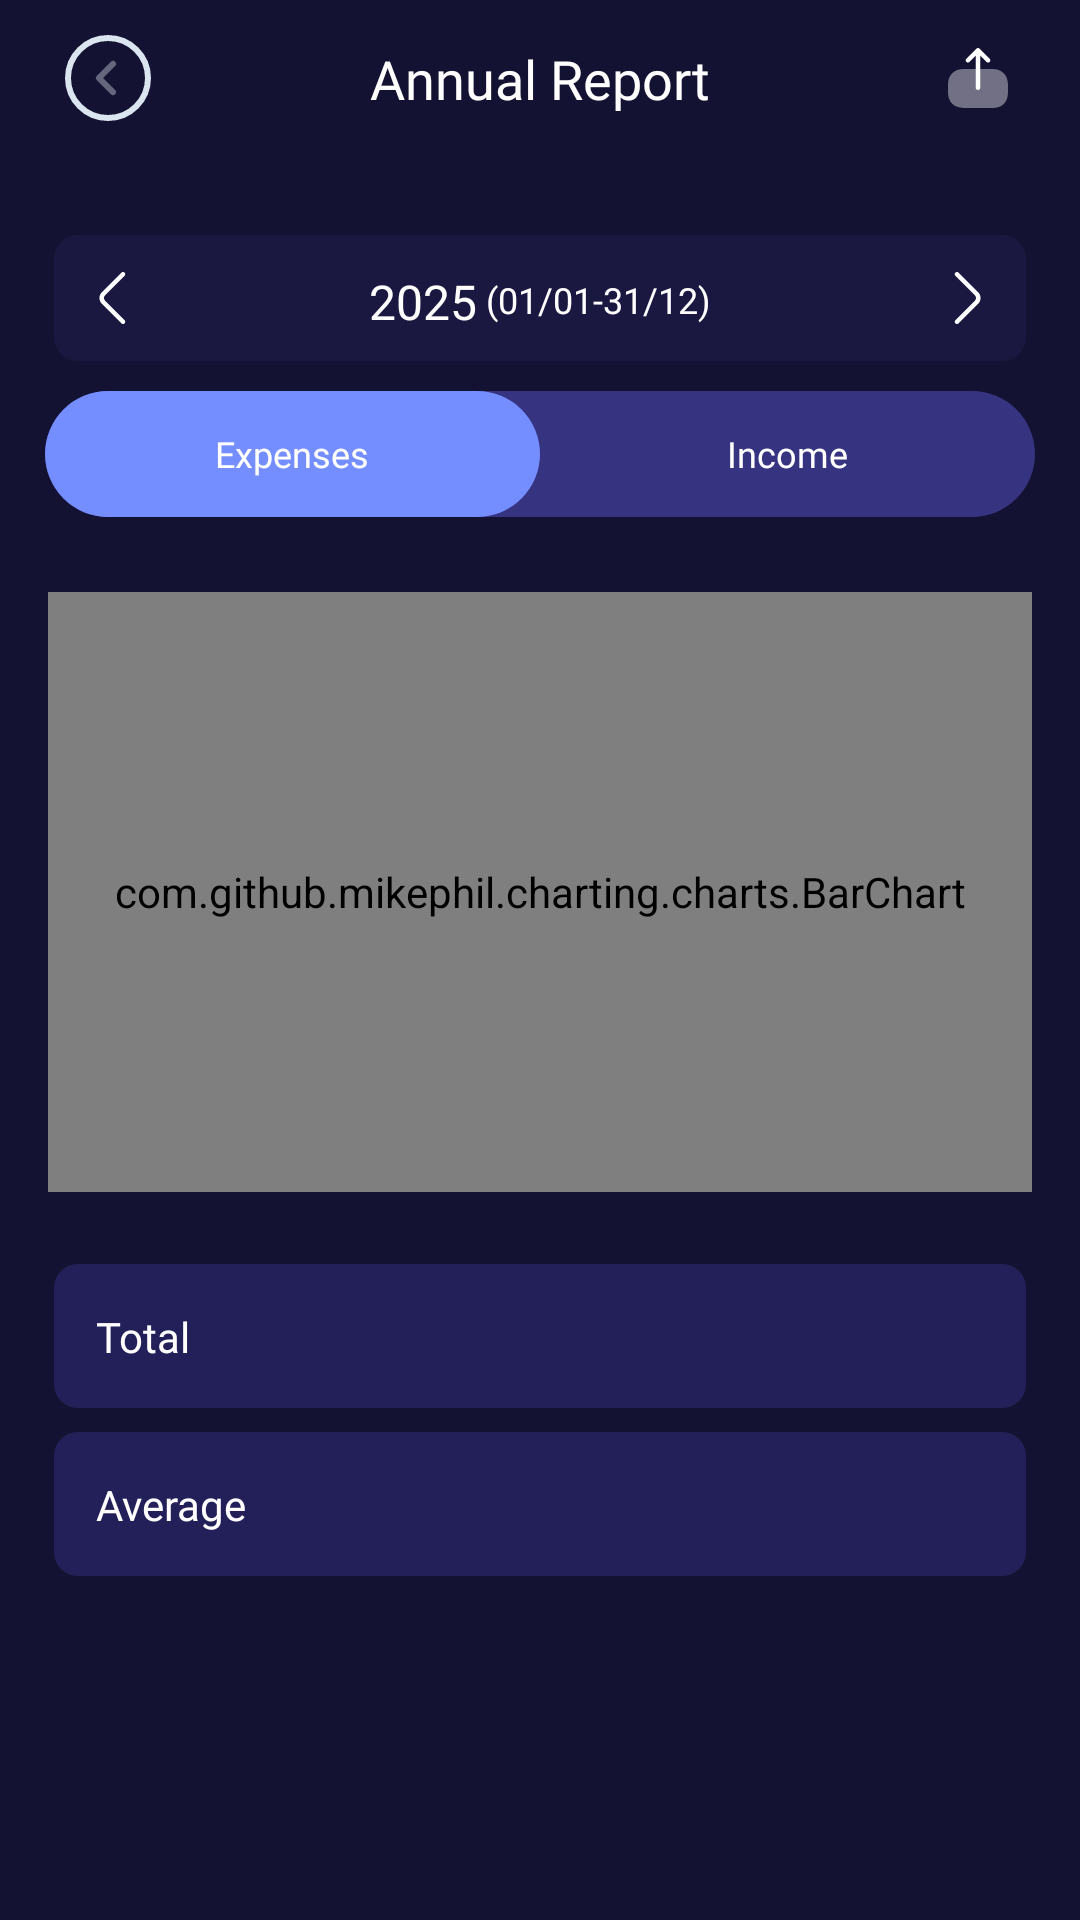

Screen size 1080w x 1920h. Icon name, then its box in pixels as (x1, y1, x2, y2):
back: (65, 35, 151, 121)
share: (948, 48, 1008, 108)
